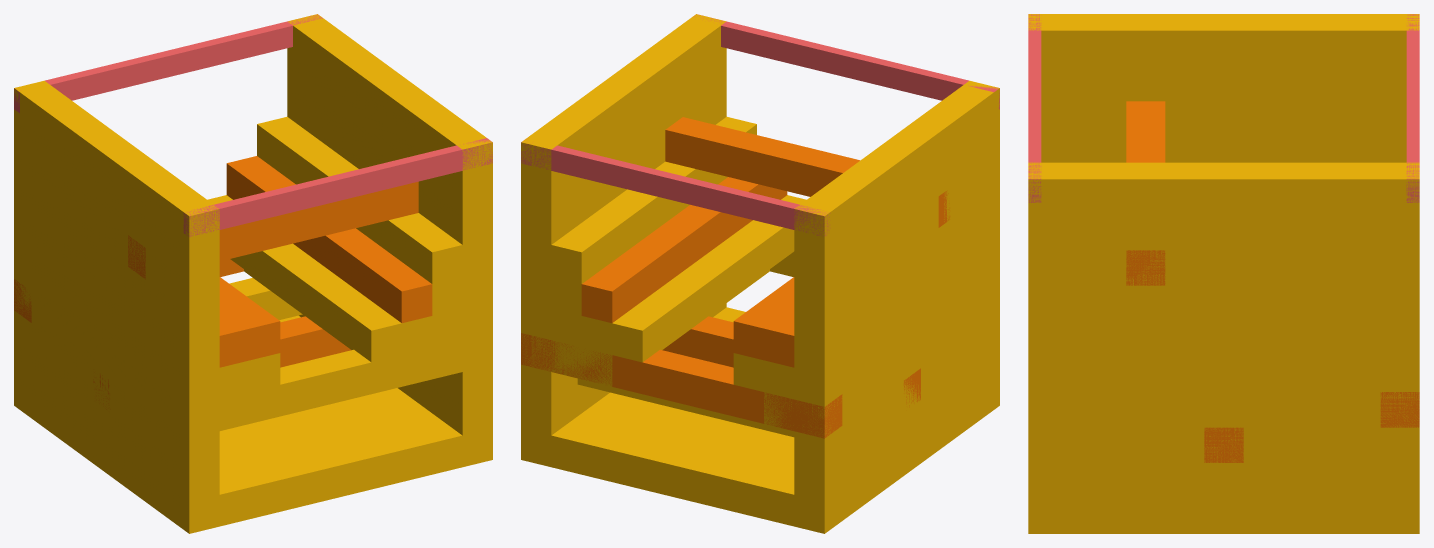
3 views of the same model, side by side, from view 1: azimuth 30°, elevation 25°; view 2: azimuth 150°, elevation 25°; view 3: azimuth 270°, elevation 25° (orthographic). The views are drawn at different scales.
Visible parts, largest first — view 1: 物件_7, 物件_6, 物件_8, 物件_4, 物件_19, 物件_14, 物件_48, 物件_1, 物件_47, 物件_49, 物件_13, 物件_22 (+34 smaller); view 2: 物件_7, 物件_5, 物件_8, 物件_4, 物件_19, 物件_1, 物件_49, 物件_14, 物件_13, 物件_22, 物件_9, 物件_16 (+37 smaller); view 3: 物件_8, 物件_7, 物件_10, 物件_15, 物件_21, 物件_27, 物件_36, 物件_12, 物件_9, 物件_37, 物件_32, 物件_34 (+10 smaller).
Part boxes in pixels (<box>): 物件_7: <box>14,80,219,247</box>; 物件_6: <box>171,333,492,438</box>; 物件_8: <box>287,14,492,181</box>; 物件_4: <box>207,195,401,362</box>; 物件_19: <box>226,156,432,322</box>; 物件_14: <box>257,117,462,283</box>; 物件_48: <box>183,138,492,236</box>; 物件_1: <box>128,181,418,279</box>; 物件_47: <box>14,392,492,533</box>; 物件_49: <box>14,14,322,113</box>; 物件_13: <box>14,183,219,343</box>; 物件_22: <box>14,247,219,406</box>; 物件_7: <box>794,80,999,247</box>; 物件_5: <box>521,333,842,438</box>; 物件_8: <box>521,14,726,181</box>; 物件_4: <box>612,195,806,362</box>; 物件_19: <box>581,177,787,322</box>; 物件_1: <box>665,117,950,227</box>; 物件_49: <box>521,138,830,236</box>; 物件_14: <box>551,117,756,283</box>; 物件_13: <box>794,183,999,343</box>; 物件_22: <box>794,247,999,406</box>; 物件_9: <box>794,120,999,279</box>; 物件_16: <box>794,215,999,374</box>; 物件_8: <box>1028,162,1419,214</box>; 物件_7: <box>1028,14,1419,65</box>; 物件_10: <box>1028,214,1419,250</box>; 物件_15: <box>1028,285,1419,321</box>; 物件_21: <box>1028,321,1419,356</box>; 物件_27: <box>1028,356,1419,391</box>; 物件_36: <box>1028,463,1419,498</box>; 物件_12: <box>1028,250,1419,285</box>; 物件_9: <box>1041,66,1406,101</box>; 物件_37: <box>1028,498,1419,533</box>; 物件_32: <box>1028,392,1419,427</box>; 物件_34: <box>1028,427,1419,462</box>.
Bounding box in the file's own units: 48 × 48 × 48.
